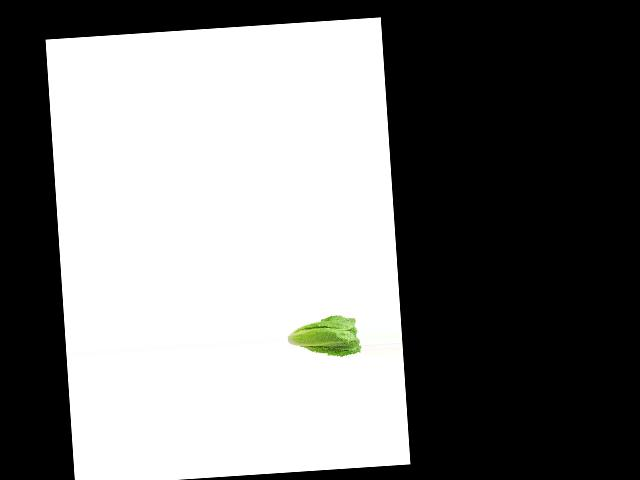lettuce: (286, 308, 361, 361)
